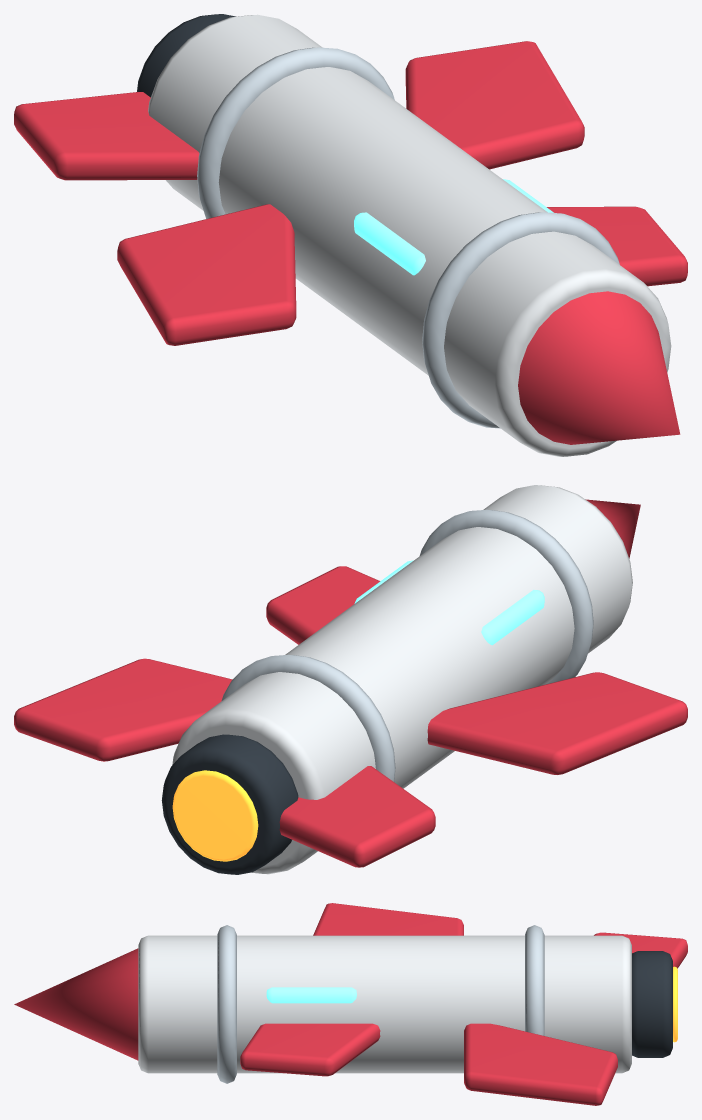
Rendered from missile.glb.
The picture shows the model from 3 angles, top to bottom: view 1: azimuth 30°, elevation 25°; view 2: azimuth 150°, elevation 25°; view 3: azimuth 270°, elevation 25°; orthographic projection. The views are drawn at different scales.
Visible parts, largest first — view 1: missile__body__Pearl, missile__body__Red, missile__body__Chrome, missile__body__Cyan_glow, missile__body__Graphite; view 2: missile__body__Pearl, missile__body__Red, missile__body__Chrome, missile__body__Graphite, missile__spark__Ember, missile__body__Cyan_glow; view 3: missile__body__Pearl, missile__body__Red, missile__body__Chrome, missile__body__Graphite, missile__body__Cyan_glow, missile__spark__Ember.
Boxes of the visible parts, x1,y1,x2,y2 form: missile__body__Pearl: (148, 14, 671, 456); missile__body__Red: (14, 41, 687, 444); missile__body__Chrome: (197, 47, 619, 428); missile__body__Cyan_glow: (354, 179, 553, 275); missile__body__Graphite: (137, 14, 235, 97); missile__body__Pearl: (172, 485, 632, 874); missile__body__Red: (14, 499, 687, 867); missile__body__Chrome: (221, 509, 593, 781); missile__body__Graphite: (161, 734, 298, 874); missile__spark__Ember: (172, 770, 258, 861); missile__body__Cyan_glow: (354, 560, 544, 645); missile__body__Pearl: (138, 935, 631, 1073); missile__body__Red: (14, 903, 687, 1105); missile__body__Chrome: (217, 925, 544, 1083); missile__body__Graphite: (632, 951, 672, 1057); missile__body__Cyan_glow: (266, 987, 356, 1003); missile__spark__Ember: (673, 966, 677, 1042).
Bounding box in the file's own units: 1.59 × 0.564 × 2.39.
